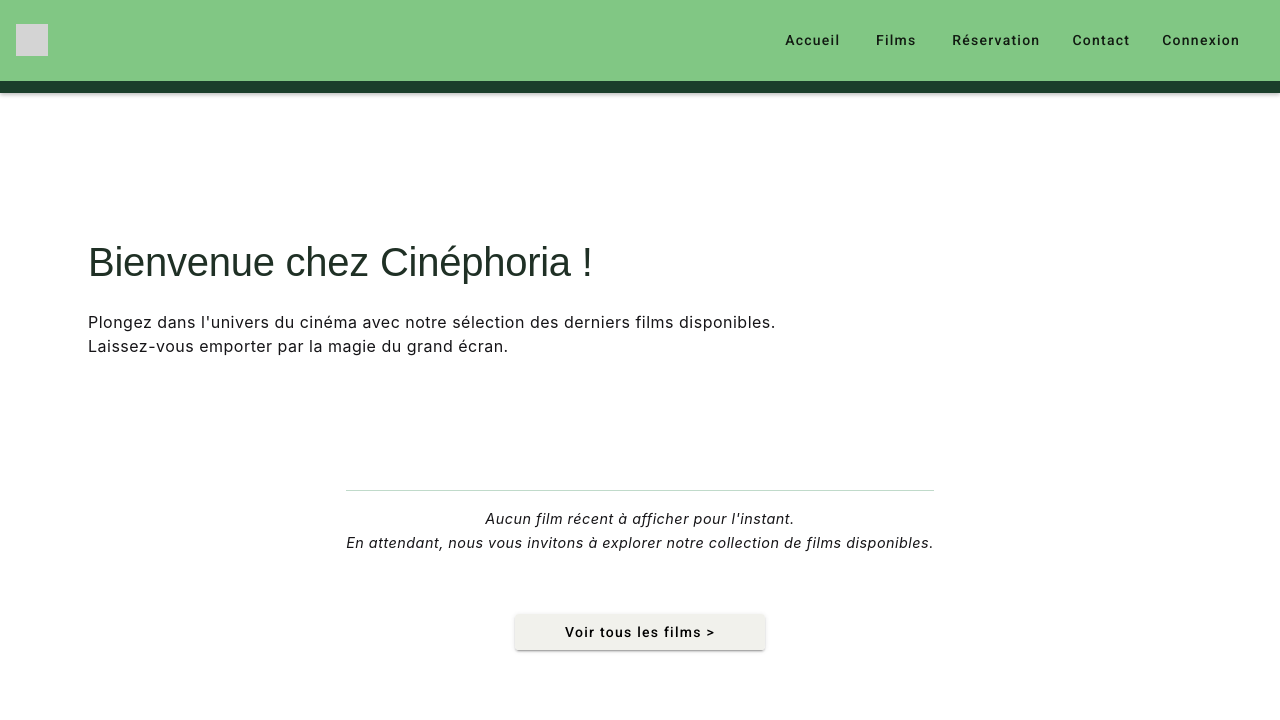
Test case: Client login e2e Tests › should show an error message for incorrect credentials
The width and height of the screenshot is (1280, 720).
Click the button "Connexion" at (1201, 40), box x1=1154 y1=22 x2=1248 y2=58
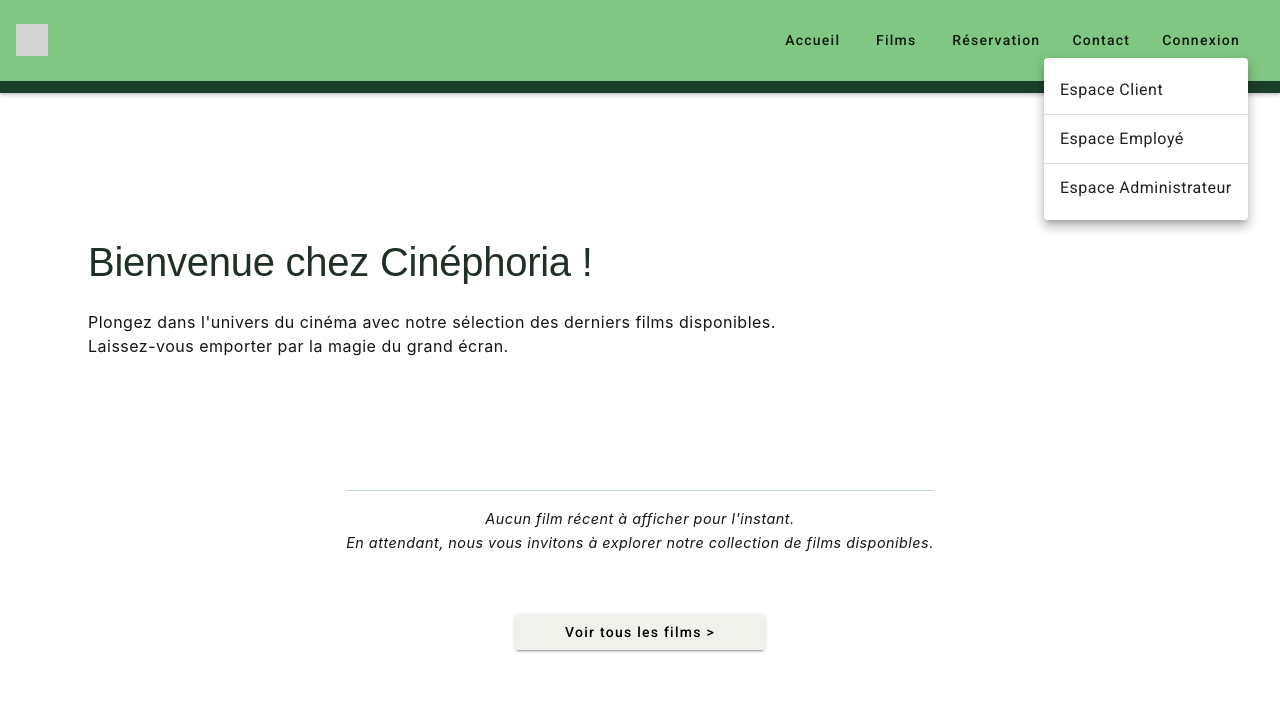
Expected: the element showing "Espace Client Espace Employé Espace Administrateur" is shown, x1=1060 y1=80 x2=1232 y2=197
Expected: the menu item "Espace Client" is shown
Click the menu item "Espace Client" at (1112, 90), box x1=1060 y1=80 x2=1163 y2=99
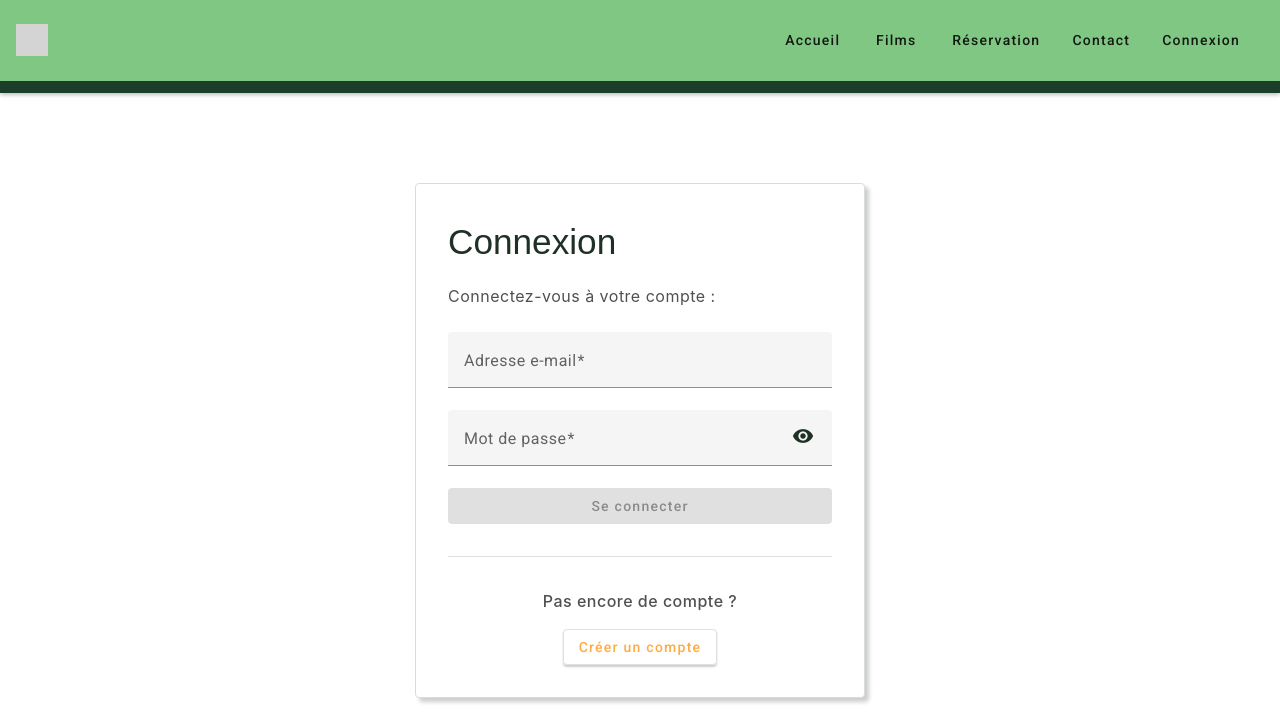
Type "testingrandomemailaddress@madeupadress.com" into the field named "email" at (640, 368), box x1=464 y1=356 x2=816 y2=380
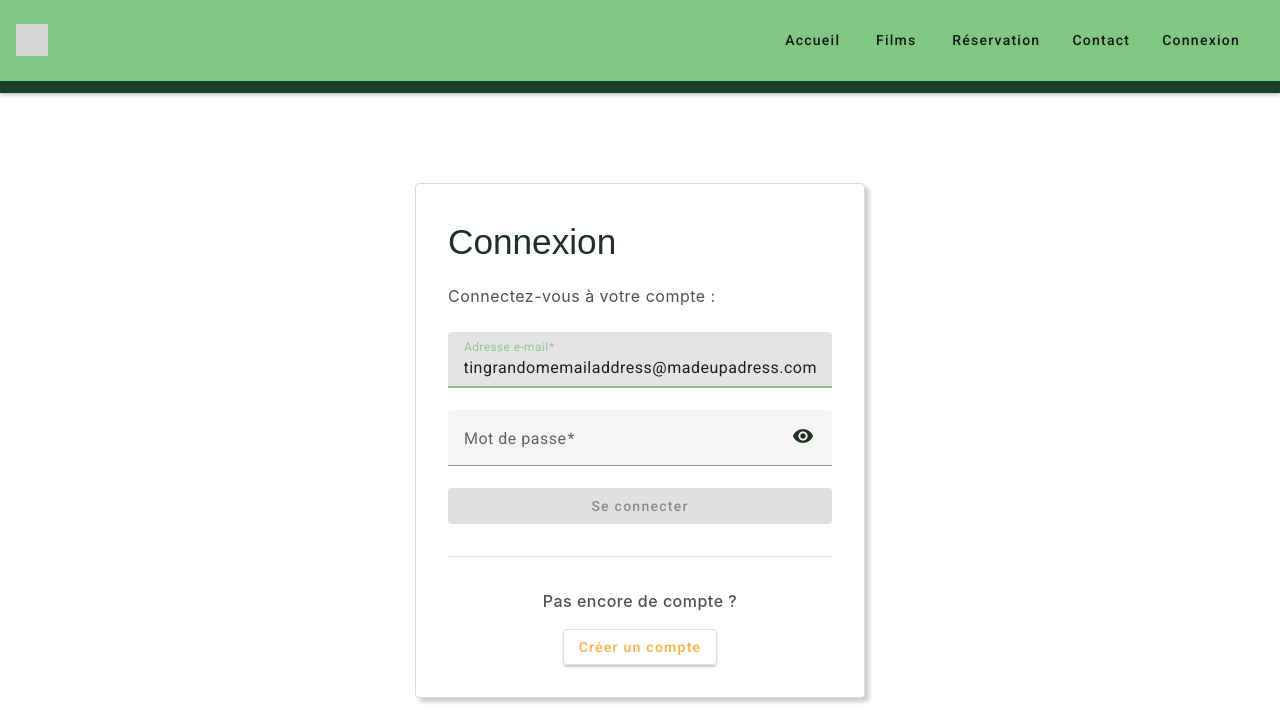
Type "StrongPassword123!" into the password field named "password" at (617, 446), box x1=464 y1=434 x2=770 y2=458
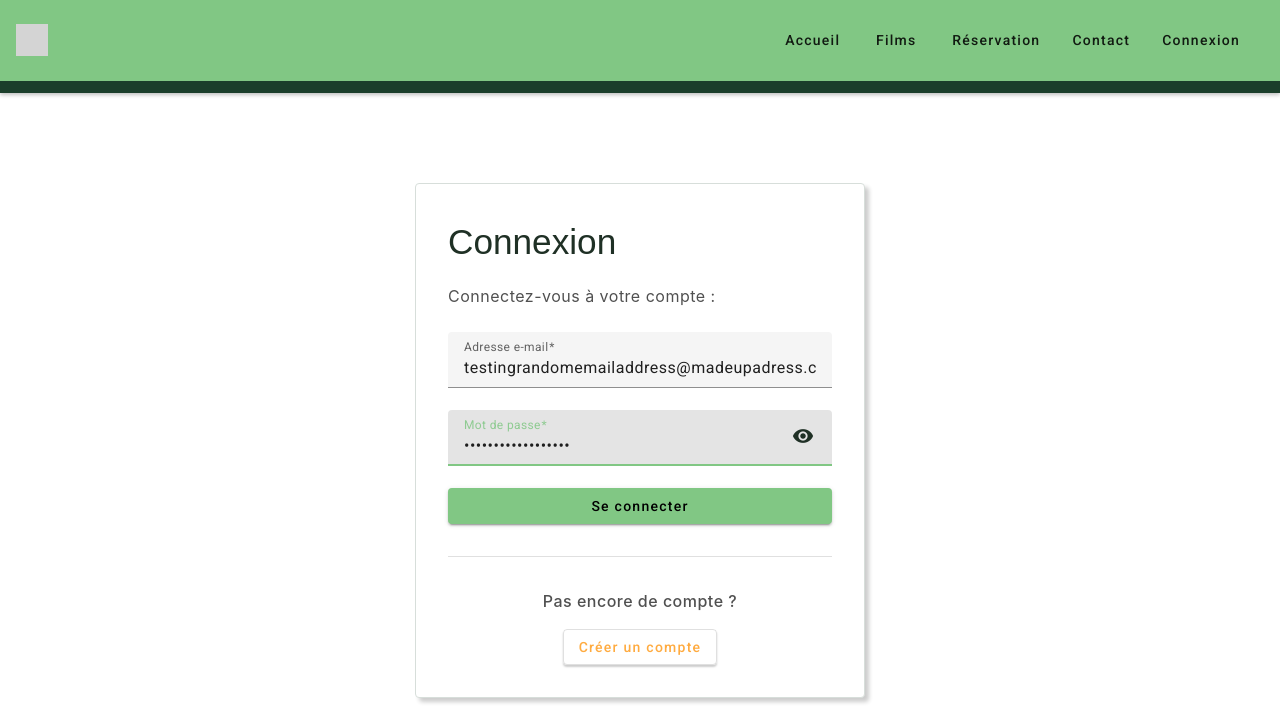
Click the submit button at (640, 506), box x1=448 y1=488 x2=832 y2=524
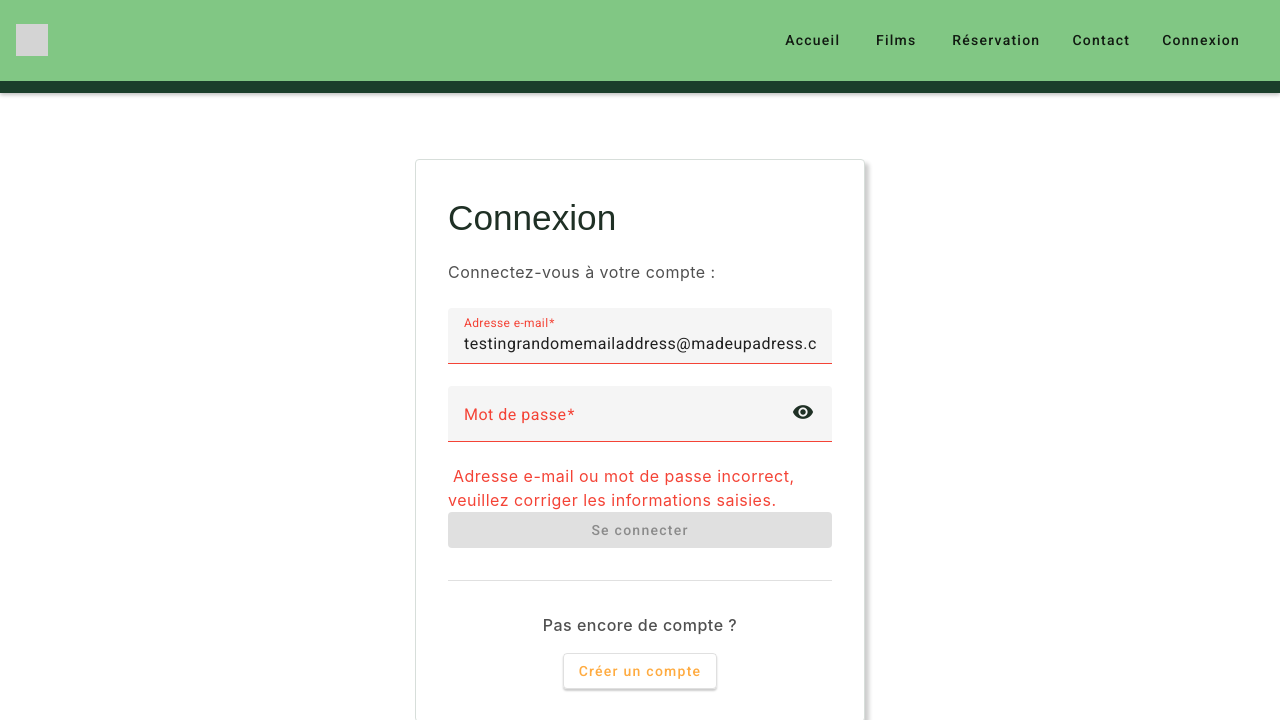
Expected: the text "Adresse e-mail ou mot de passe incorrect, veuillez corriger les informations saisies." is shown, x1=448 y1=466 x2=795 y2=510
